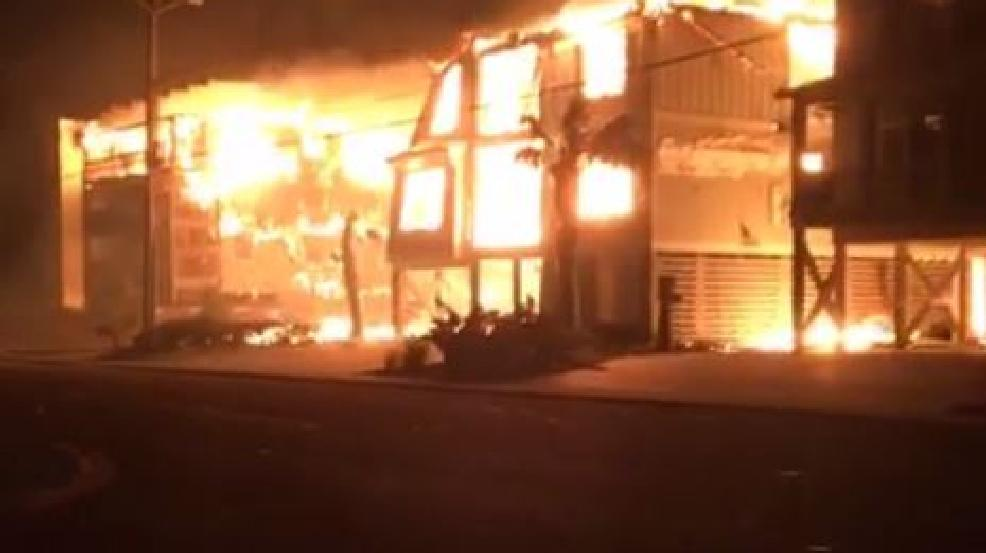Fire: (89, 10, 986, 362)
